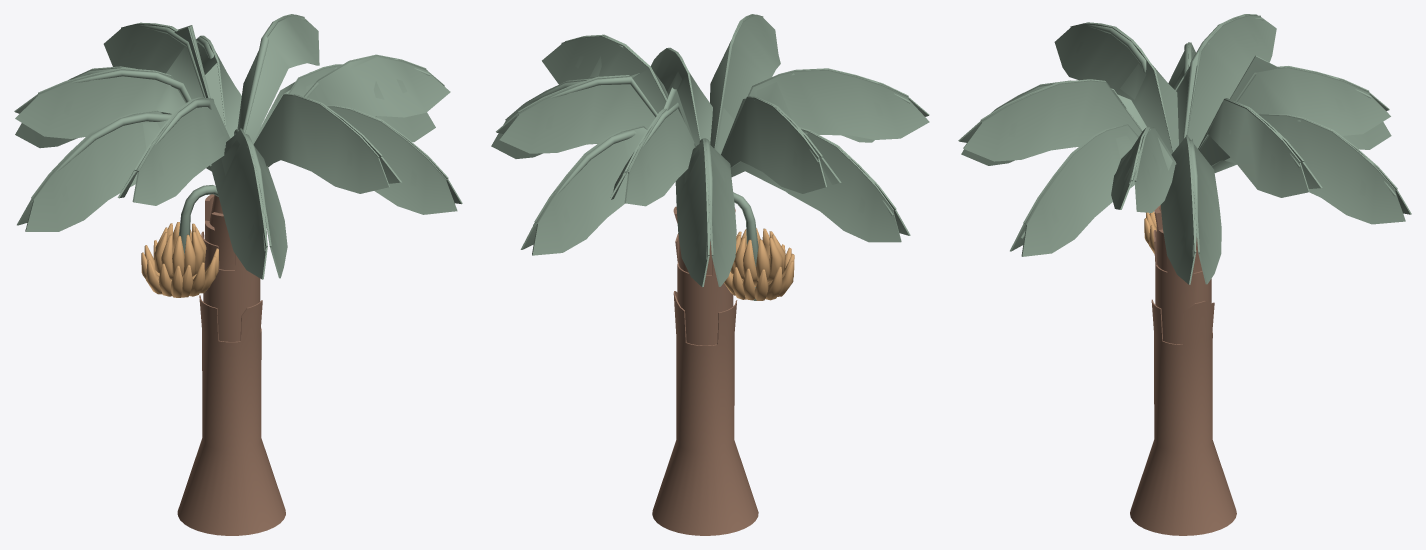
File: BananaPlants 1.fbx
The picture shows the model from 3 angles, left to right: view 1: azimuth 30°, elevation 25°; view 2: azimuth 150°, elevation 25°; view 3: azimuth 270°, elevation 25°; orthographic projection.
Visible parts, largest first — view 1: BananaPlant2, BananaPlant1, BananaPlantLotBananas1; view 2: BananaPlant2, BananaPlant1, BananaPlantLotBananas1; view 3: BananaPlant2, BananaPlant1.
Part boxes in pixels (bbox=[...]): BananaPlant2: bbox=[14, 14, 462, 280]; BananaPlant1: bbox=[177, 185, 285, 535]; BananaPlantLotBananas1: bbox=[141, 240, 218, 297]; BananaPlant2: bbox=[491, 14, 929, 287]; BananaPlant1: bbox=[652, 192, 758, 535]; BananaPlantLotBananas1: bbox=[724, 244, 794, 300]; BananaPlant2: bbox=[958, 14, 1411, 284]; BananaPlant1: bbox=[1130, 205, 1236, 535].
Bounding box in the file's own units: 351 × 373 × 337.
1 material, 1 textured.
